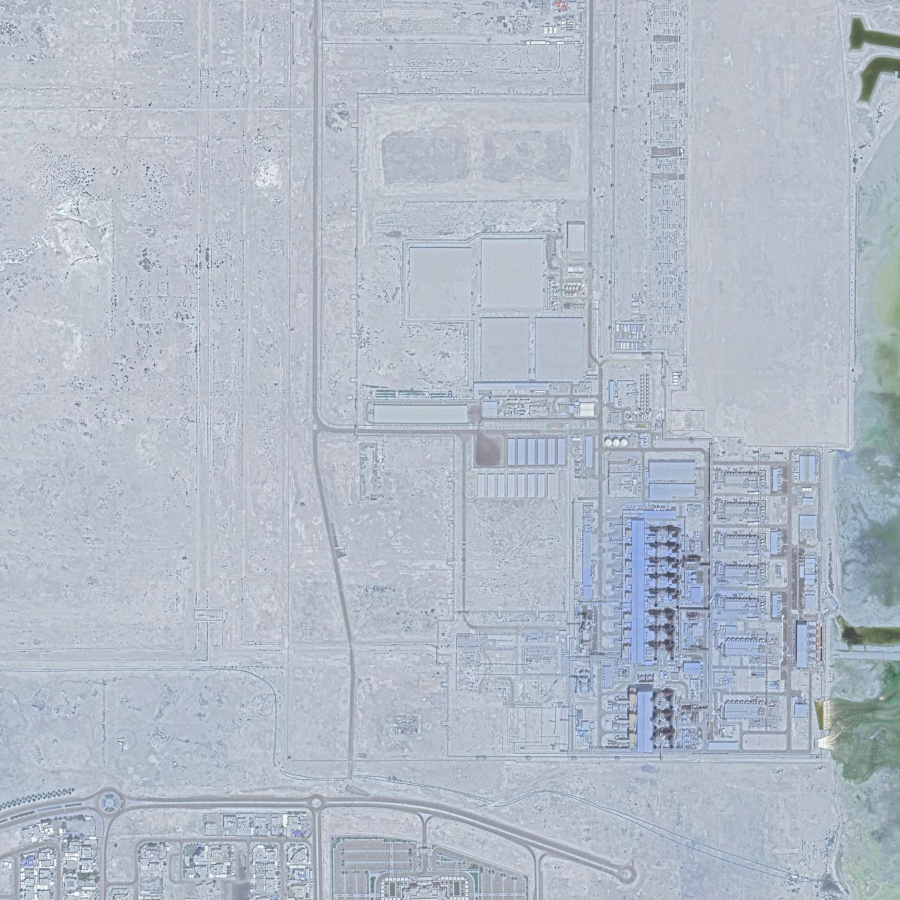PowerPlant: (592, 427, 854, 753)
